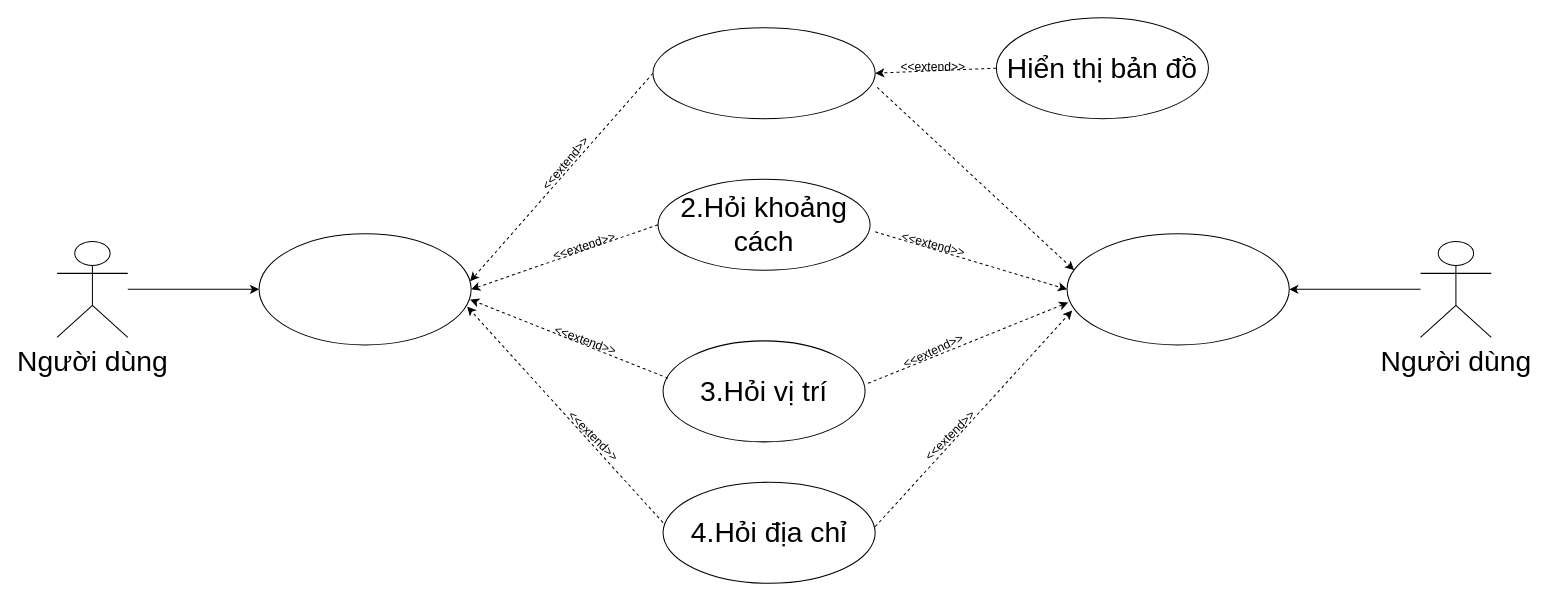
Image size: 1548x601. Some labels were removed from this diagram. The box of each missing label's shape, as (x1, y1, x2, y2) in pixels:
1.Hỏi đường đi: (652, 27, 875, 119)
Hỏi bằng văn bản: (258, 233, 471, 345)
Hỏi bằng âm thanh: (1066, 233, 1289, 345)
